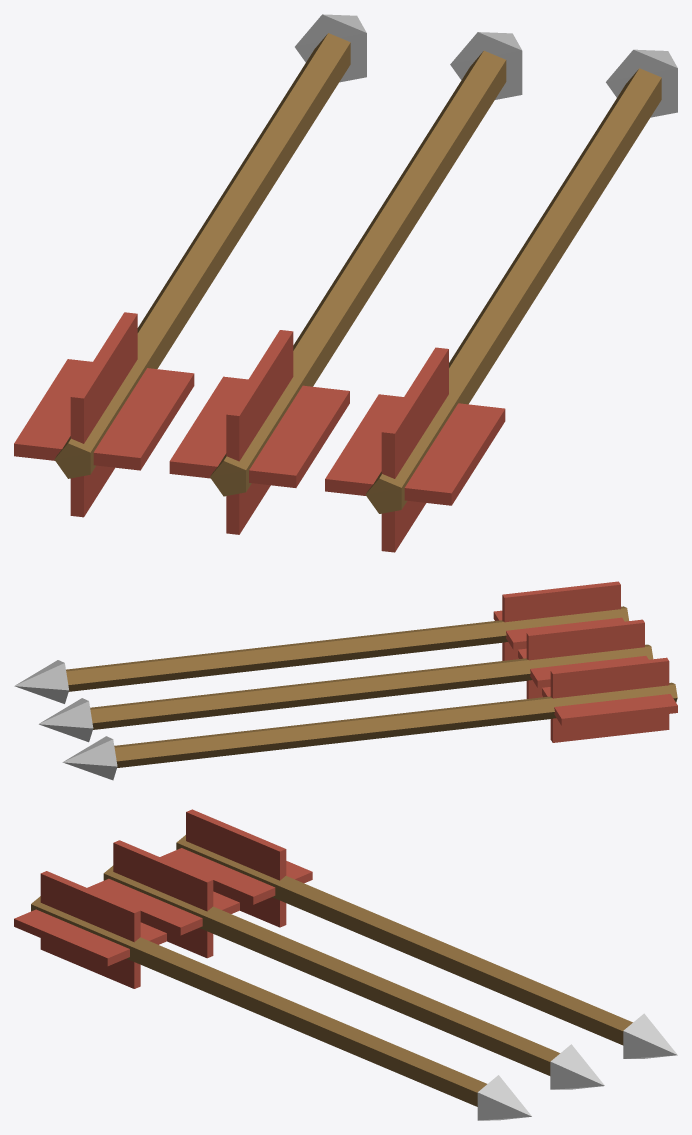
Rendered from ce_ammo2_great_steel_b.obj.
The picture shows the model from 3 angles, top to bottom: view 1: azimuth 30°, elevation 25°; view 2: azimuth 150°, elevation 25°; view 3: azimuth 270°, elevation 25°; orthographic projection. The views are drawn at different scales.
Parts seen in each view (by area): view 1: ce_ammo2_great_steel_b_4, ce_ammo2_great_steel_b_0, ce_ammo2_great_steel_b_8, ce_ammo2_great_steel_b_6, ce_ammo2_great_steel_b_2, ce_ammo2_great_steel_b_10, ce_ammo2_great_steel_b_3, ce_ammo2_great_steel_b_11, ce_ammo2_great_steel_b_7, ce_ammo2_great_steel_b_5, ce_ammo2_great_steel_b_1, ce_ammo2_great_steel_b_9; view 2: ce_ammo2_great_steel_b_0, ce_ammo2_great_steel_b_4, ce_ammo2_great_steel_b_8, ce_ammo2_great_steel_b_3, ce_ammo2_great_steel_b_11, ce_ammo2_great_steel_b_7, ce_ammo2_great_steel_b_2, ce_ammo2_great_steel_b_1, ce_ammo2_great_steel_b_5, ce_ammo2_great_steel_b_9, ce_ammo2_great_steel_b_10, ce_ammo2_great_steel_b_6; view 3: ce_ammo2_great_steel_b_4, ce_ammo2_great_steel_b_0, ce_ammo2_great_steel_b_8, ce_ammo2_great_steel_b_11, ce_ammo2_great_steel_b_3, ce_ammo2_great_steel_b_7, ce_ammo2_great_steel_b_10, ce_ammo2_great_steel_b_2, ce_ammo2_great_steel_b_6, ce_ammo2_great_steel_b_9, ce_ammo2_great_steel_b_5, ce_ammo2_great_steel_b_1.
Boxes of the visible parts, <box> form: ce_ammo2_great_steel_b_4: <box>210,50,506,496</box>; ce_ammo2_great_steel_b_0: <box>54,33,350,478</box>; ce_ammo2_great_steel_b_8: <box>365,68,661,513</box>; ce_ammo2_great_steel_b_6: <box>169,376,349,487</box>; ce_ammo2_great_steel_b_2: <box>14,359,194,470</box>; ce_ammo2_great_steel_b_10: <box>325,394,505,505</box>; ce_ammo2_great_steel_b_3: <box>70,312,137,517</box>; ce_ammo2_great_steel_b_11: <box>381,347,448,552</box>; ce_ammo2_great_steel_b_7: <box>226,330,293,534</box>; ce_ammo2_great_steel_b_5: <box>450,32,522,99</box>; ce_ammo2_great_steel_b_1: <box>295,14,366,82</box>; ce_ammo2_great_steel_b_9: <box>606,49,677,117</box>; ce_ammo2_great_steel_b_0: <box>114,682,677,767</box>; ce_ammo2_great_steel_b_4: <box>90,644,653,729</box>; ce_ammo2_great_steel_b_8: <box>66,606,628,691</box>; ce_ammo2_great_steel_b_3: <box>550,657,669,742</box>; ce_ammo2_great_steel_b_11: <box>502,581,620,660</box>; ce_ammo2_great_steel_b_7: <box>526,619,644,698</box>; ce_ammo2_great_steel_b_2: <box>542,687,677,725</box>; ce_ammo2_great_steel_b_1: <box>62,736,117,780</box>; ce_ammo2_great_steel_b_5: <box>38,698,93,742</box>; ce_ammo2_great_steel_b_9: <box>14,660,69,703</box>; ce_ammo2_great_steel_b_10: <box>493,610,624,649</box>; ce_ammo2_great_steel_b_6: <box>518,648,648,687</box>; ce_ammo2_great_steel_b_4: <box>103,865,560,1075</box>; ce_ammo2_great_steel_b_0: <box>176,835,632,1045</box>; ce_ammo2_great_steel_b_8: <box>31,896,486,1106</box>; ce_ammo2_great_steel_b_11: <box>40,871,140,988</box>; ce_ammo2_great_steel_b_3: <box>186,809,286,927</box>; ce_ammo2_great_steel_b_7: <box>113,840,213,958</box>; ce_ammo2_great_steel_b_10: <box>14,909,166,966</box>; ce_ammo2_great_steel_b_2: <box>160,848,312,904</box>; ce_ammo2_great_steel_b_6: <box>87,878,239,935</box>; ce_ammo2_great_steel_b_9: <box>477,1075,531,1120</box>; ce_ammo2_great_steel_b_5: <box>550,1044,604,1089</box>; ce_ammo2_great_steel_b_1: <box>623,1013,677,1058</box>.
Size of the model in its own units: 0.903 by 0.114 by 0.903.
